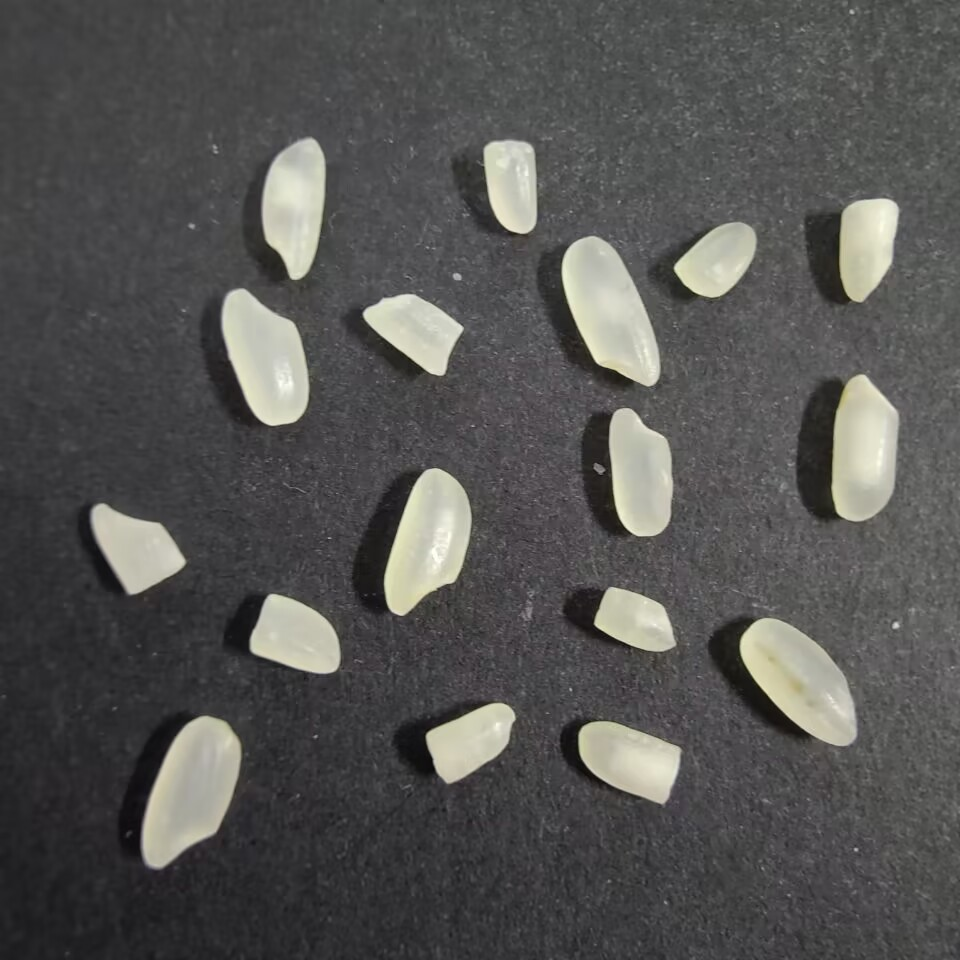broken: (86, 498, 190, 600), (577, 718, 685, 807), (359, 292, 465, 378), (245, 591, 346, 680), (418, 701, 520, 786), (834, 193, 901, 310), (672, 218, 760, 302), (478, 136, 545, 235), (590, 583, 679, 655)
rice: (136, 712, 244, 875), (734, 613, 858, 748), (558, 232, 661, 392), (381, 463, 476, 621), (219, 286, 312, 430), (825, 369, 902, 527), (255, 130, 328, 283), (606, 405, 678, 541)
